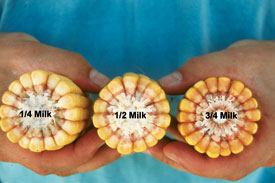corn: (0, 70, 88, 152), (177, 76, 262, 158), (92, 72, 169, 154)
